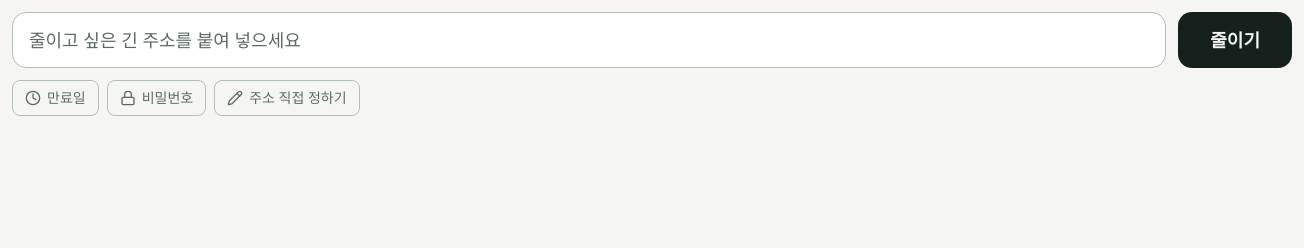
it: Composer › 켠 옵션을 비워 두면 보내지 않고 해당 칸에 안내한다
Type "https://example.com" into the field named "줄일 주소". click: (589, 40)
box: [12, 12, 1166, 68]
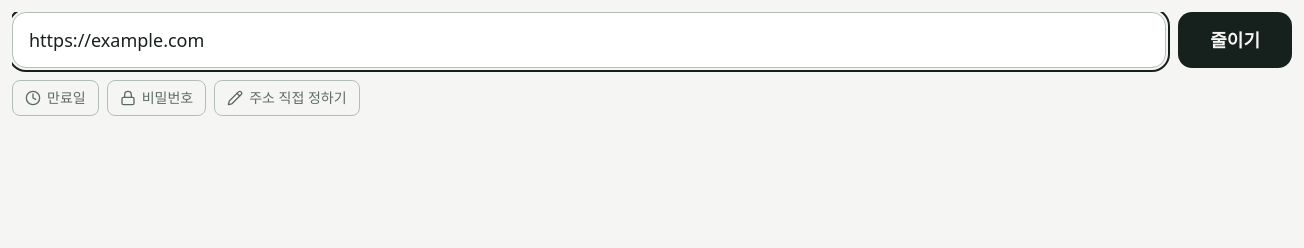
Click the button "비밀번호". click: click(156, 98)
box: [107, 80, 206, 116]
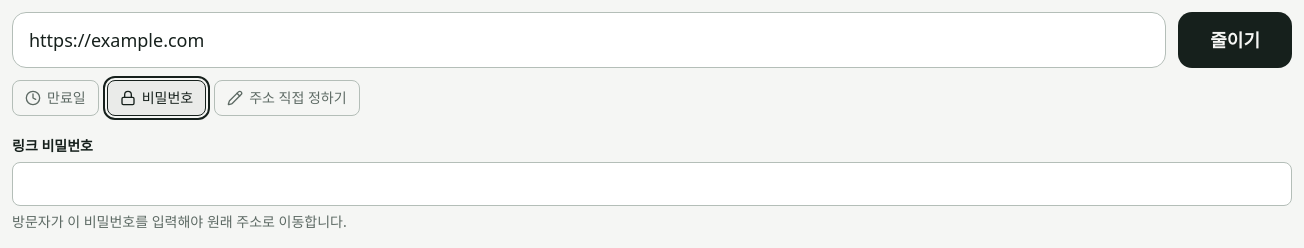
Click the button "줄이기". click: click(1235, 40)
box: [1178, 12, 1292, 68]
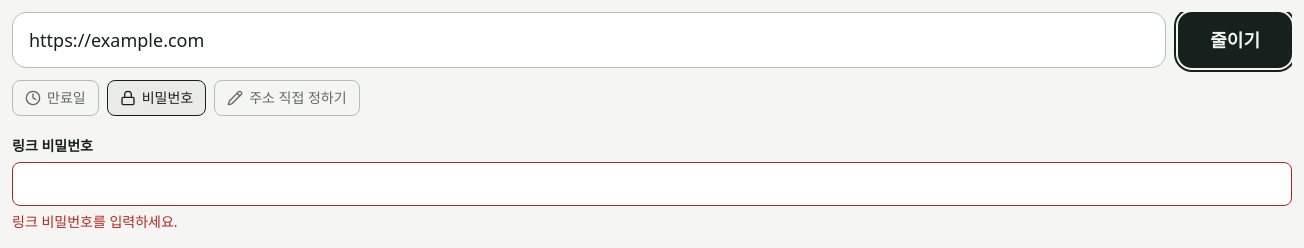
Check: the text "링크 비밀번호를 입력하세요." is shown, box [12, 212, 178, 231]
